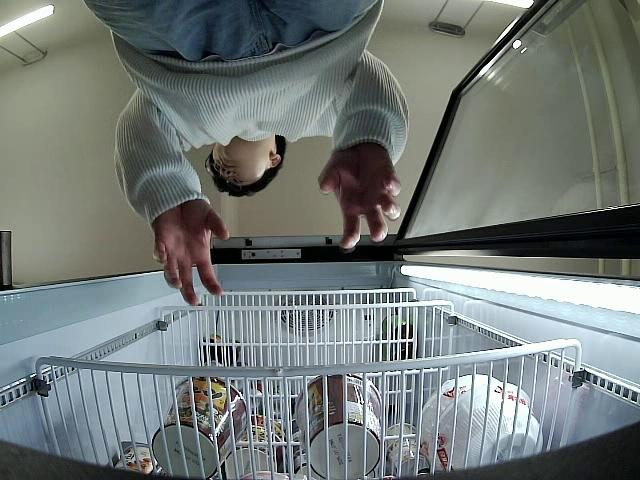00_hand: (317, 146, 402, 249), (153, 197, 229, 303)
